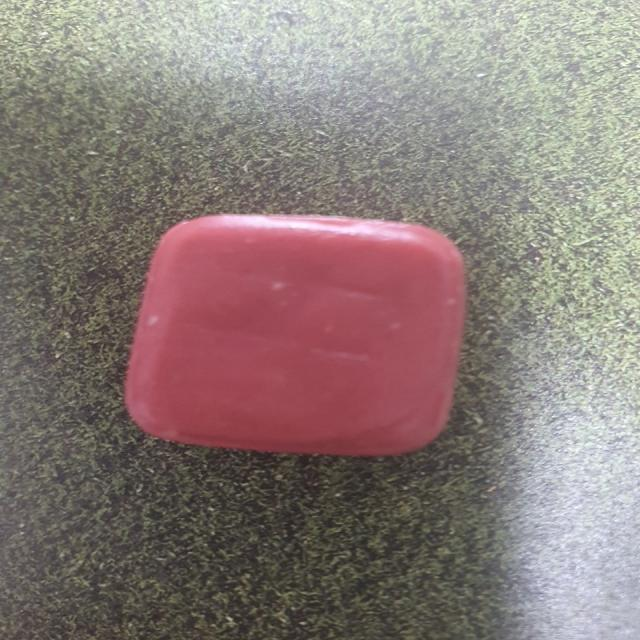pill: (104, 198, 476, 469)
